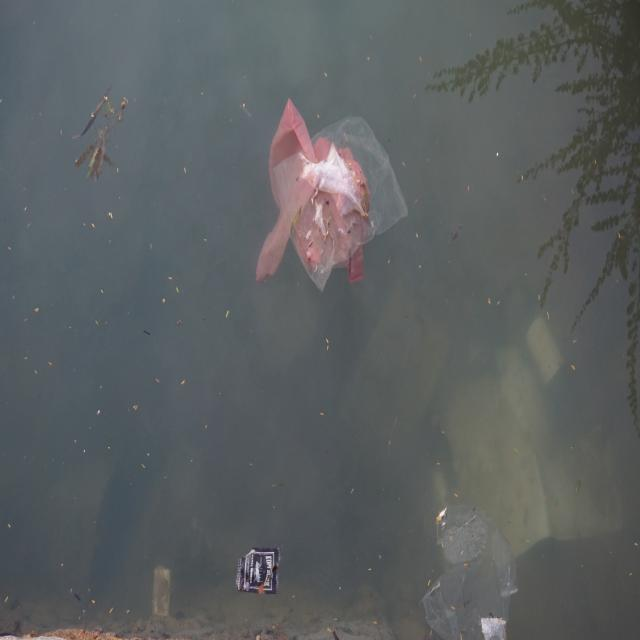Bungkus Minuman: (231, 541, 286, 601)
Kantong Plastik: (255, 83, 372, 306), (275, 112, 410, 290), (418, 495, 519, 640)
